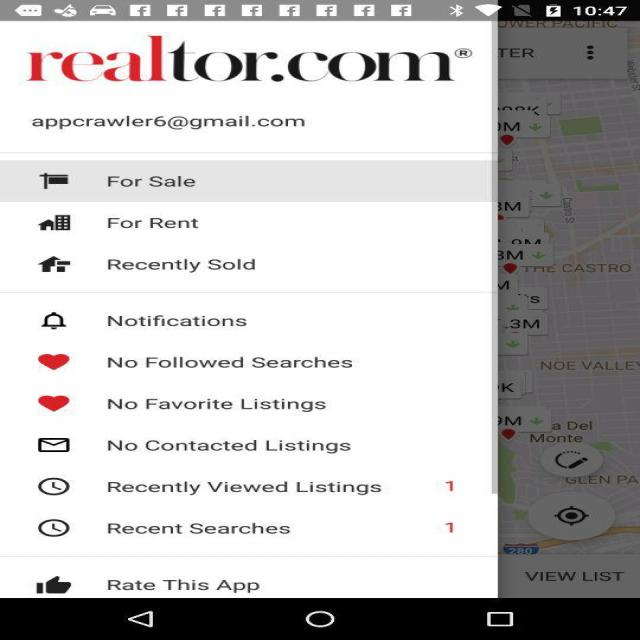button: (27, 463, 430, 505), (2, 295, 328, 338), (32, 558, 302, 608), (24, 386, 373, 423), (25, 424, 389, 457), (14, 163, 274, 209), (15, 347, 410, 374), (23, 249, 304, 280), (25, 517, 332, 543), (8, 216, 299, 239)
text: (6, 32, 494, 94), (12, 104, 421, 133)
